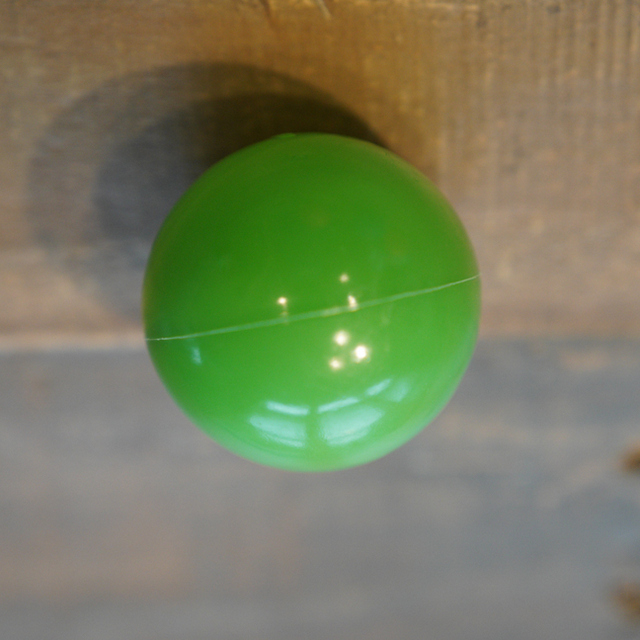Ball: (137, 134, 484, 473)
